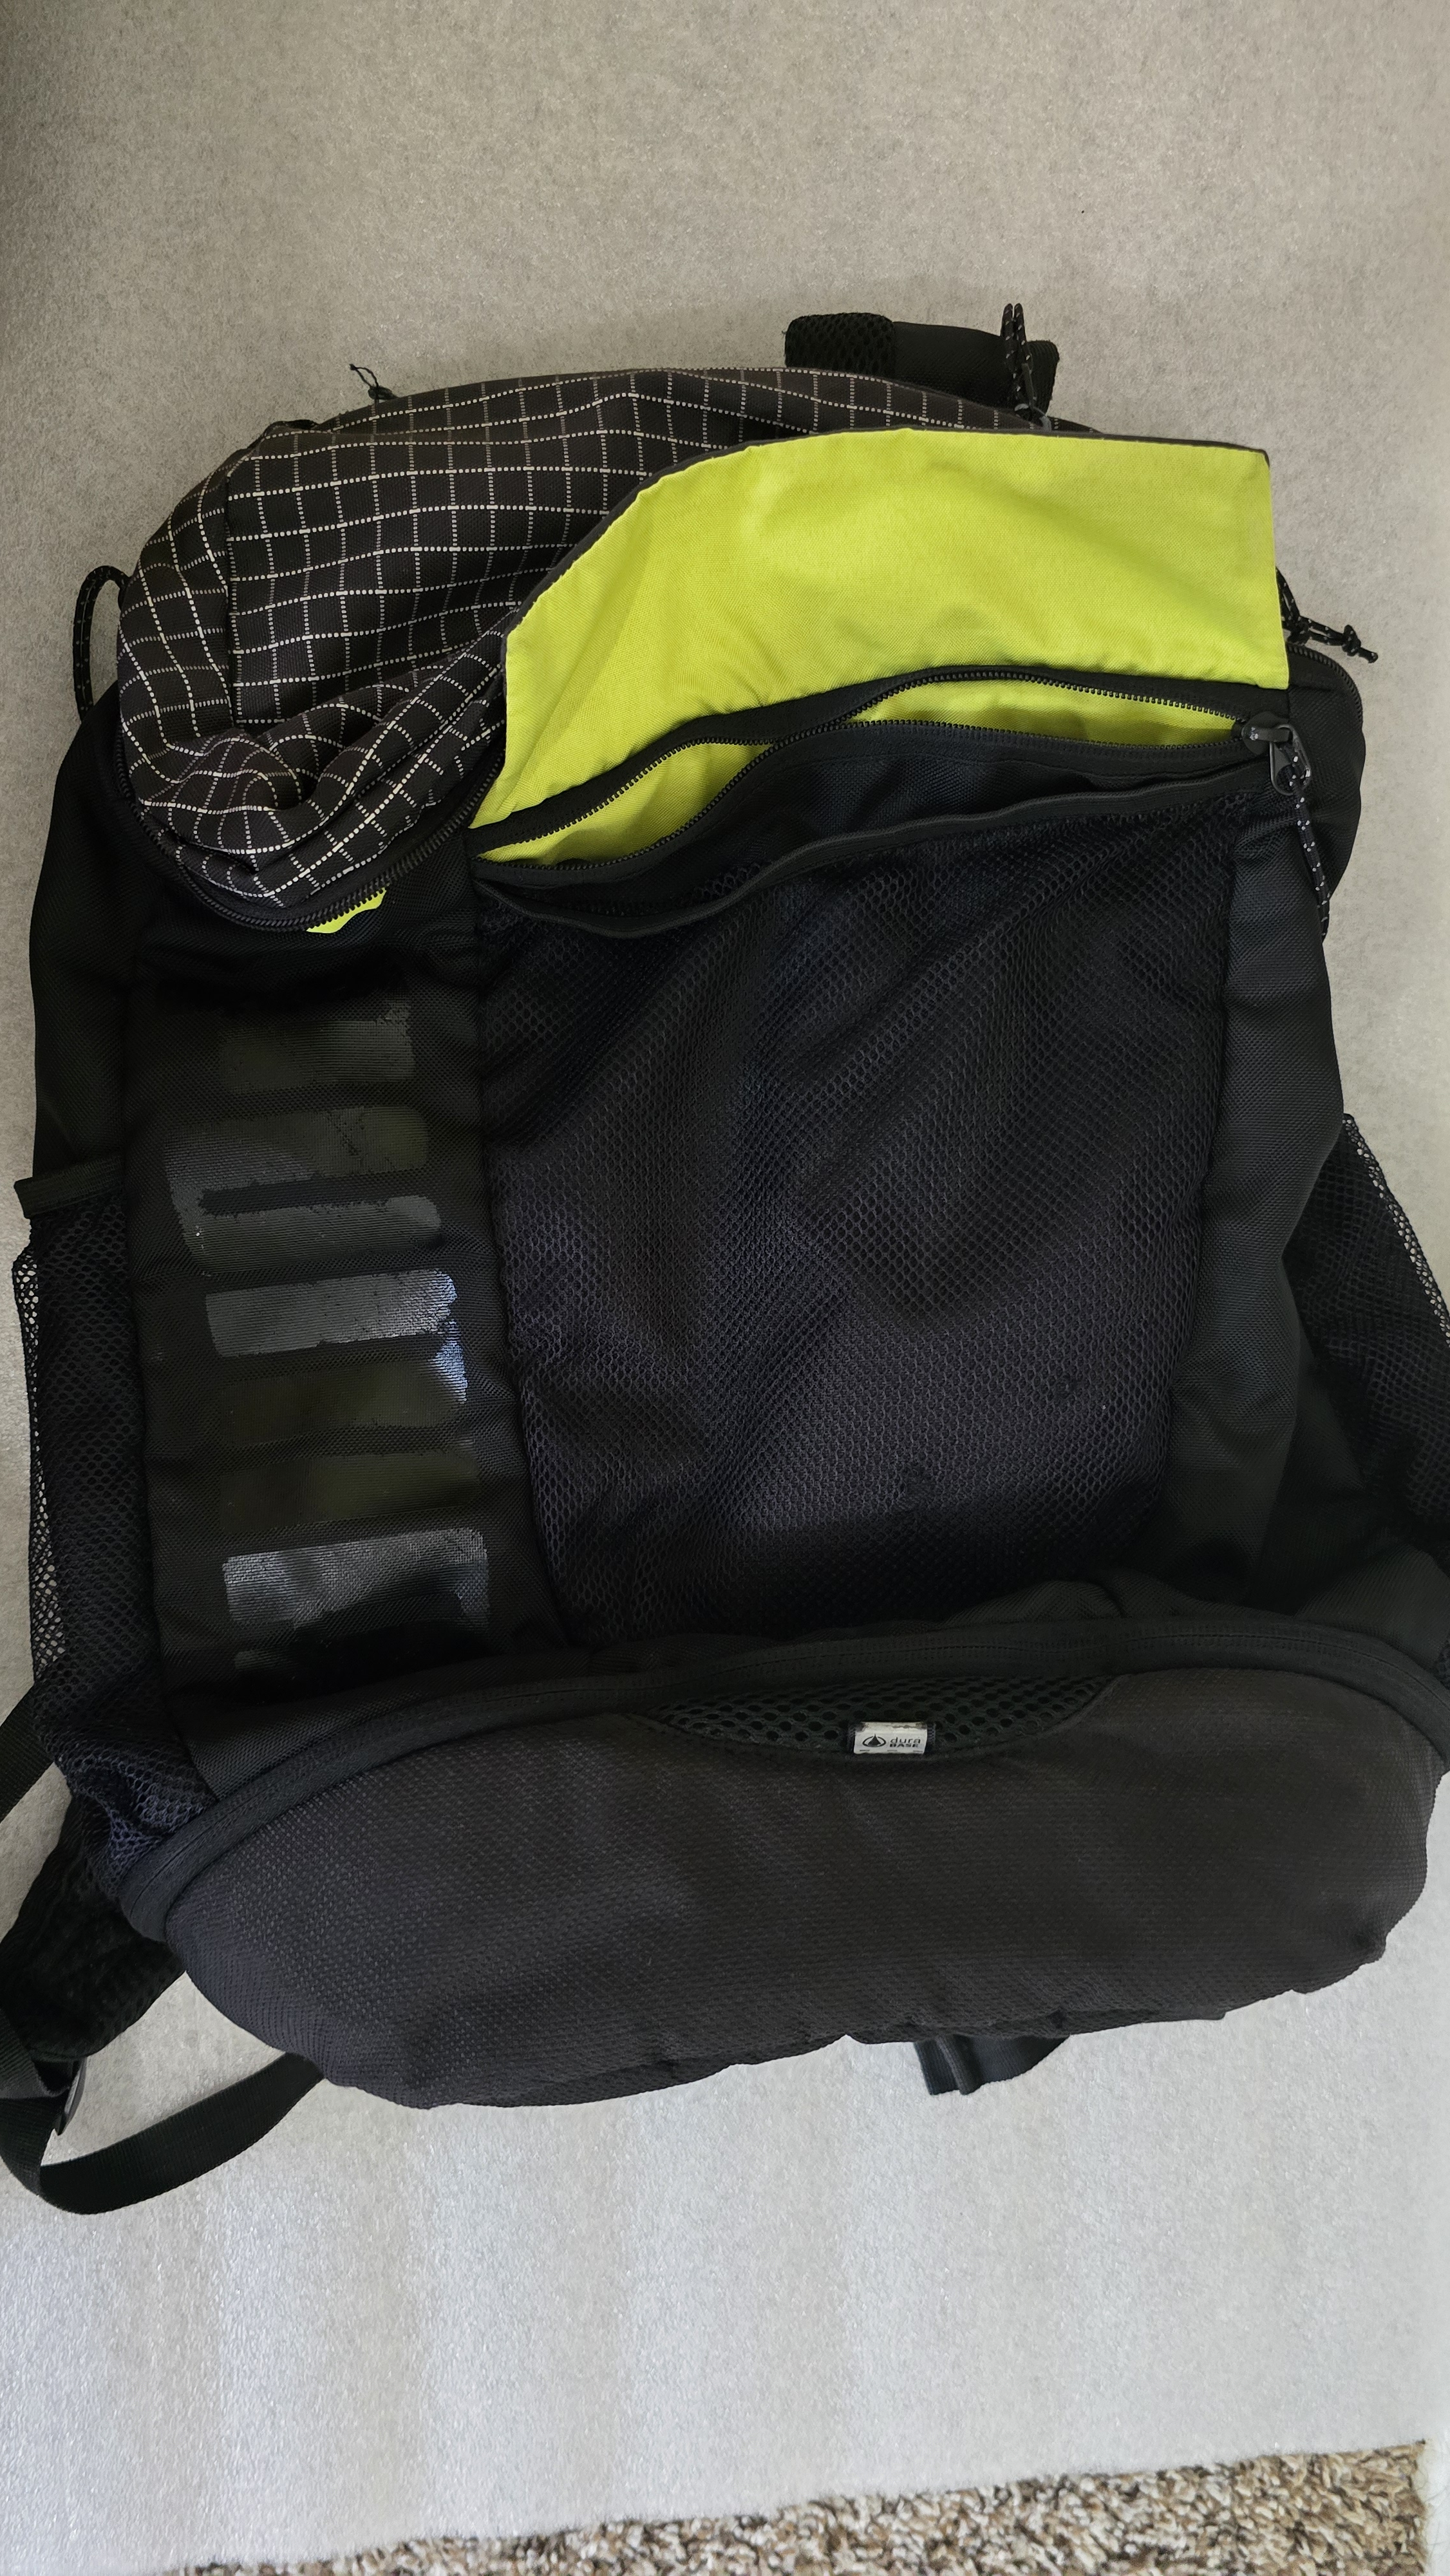bag: (35, 363, 1450, 2079)
